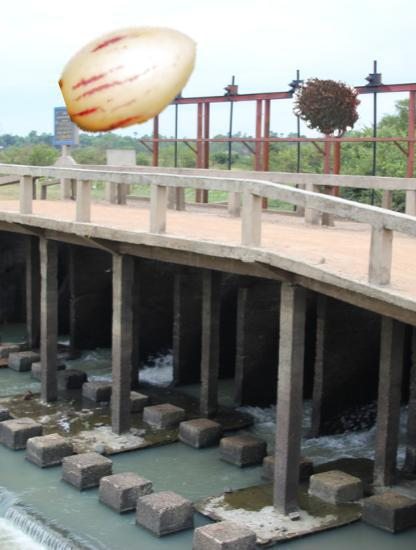Pepino: (60, 3, 205, 148)
Rambutan: (291, 69, 364, 142)
